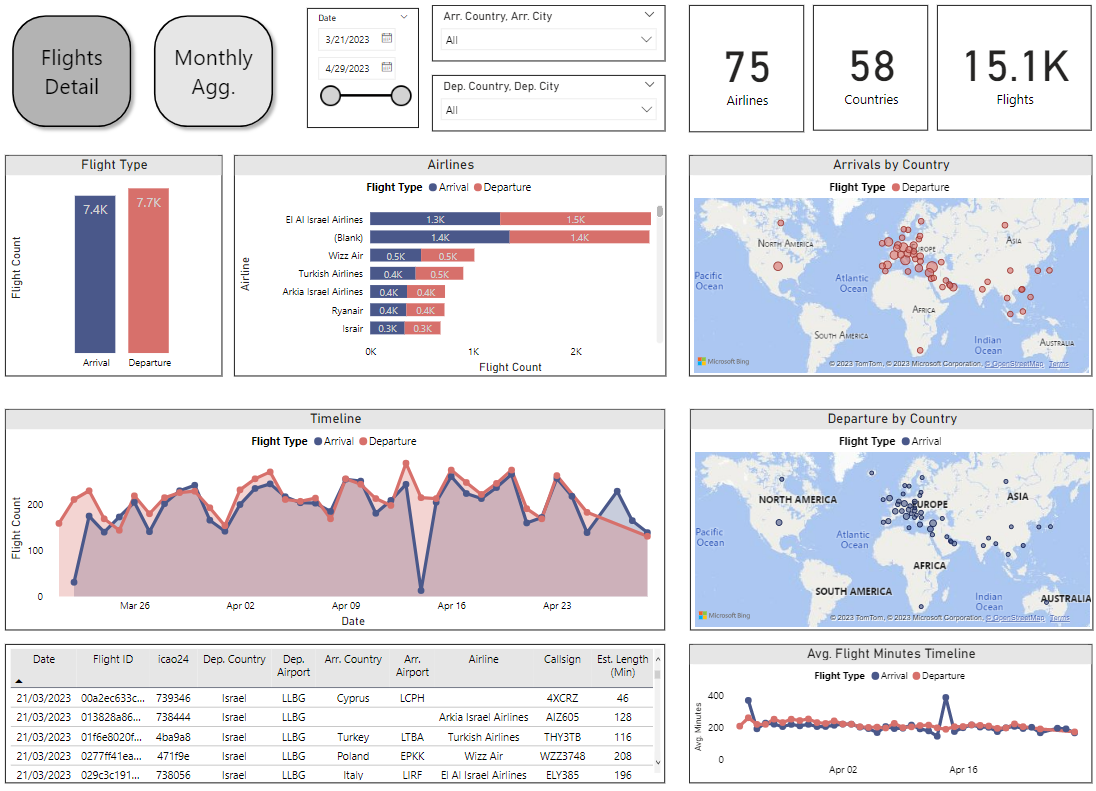

The page's visual inventory and layout, read from the dashboard file:
{"tool":"powerbi","page":{"name":"Flights Detail","canvas":[1400,1000],"ordinal":0},"visuals":[{"type":"barChart","title":"Airlines","fields":{"Category":["fact_flights.airline_name"],"Y":["Measure Table.Flight Count"],"Series":["fact_flights.flight_type"]},"box":[317.5,202,536.5,275],"z":0},{"type":"map","title":"Arrivals by Country","fields":{"Category":["fact_flights.arr_airport_country"],"Series":["fact_flights.flight_type"],"Size":["Measure Table.Flight Count"]},"box":[882.9,202,500.8,275],"z":1000},{"type":"card","fields":{"Values":["Measure Table.Flight Count"]},"box":[1191.9,16.6,191.9,156.2],"z":2000},{"type":"slicer","fields":{"Values":["fact_flights.arr_airport_country","fact_flights.arr_airport_city"]},"box":[563.7,16.6,290,70],"z":3000,"group":"g1"},{"type":"columnChart","title":"Flight Type","fields":{"Category":["fact_flights.flight_type"],"Y":["Measure Table.Flight Count"]},"box":[34,202,269.9,275],"z":3000},{"type":"slicer","fields":{"Values":["fact_flights.dep_airport_country","fact_flights.dep_airport_city"]},"box":[563.7,103.8,290.3,70],"z":4000,"group":"g1"},{"type":"areaChart","title":"Timeline","fields":{"Y":["Measure Table.Flight Count"],"Series":["fact_flights.flight_type"],"Category":["fact_flights.last_seen - date"]},"box":[34,517.8,820,275],"z":4000},{"type":"tableEx","fields":{"Values":["fact_flights.last_seen - date","fact_flights.flight_id","fact_flights.icao24","fact_flights.dep_airport_country","fact_flights.dep_airport","fact_flights.arr_airport_country","fact_flights.arr_airport","fact_flights.airline_name","fact_flights.callsign","Sum(fact_flights.est_flight_length_min)"]},"box":[34,809.8,820,173.2],"z":5000},{"type":"map","title":"Departure by Country","fields":{"Category":["fact_flights.dep_airport_country"],"Series":["fact_flights.flight_type"],"Size":["Measure Table.Flight Count"]},"box":[884.6,517.8,500.8,275],"z":6000},{"type":"card","fields":{"Values":["Measure Table.Airline Count"]},"box":[882.9,15.7,142.6,157.9],"z":7000},{"type":"card","fields":{"Values":["Measure Table.Countries"]},"box":[1037.4,16.6,142.6,156.2],"z":8000},{"type":"slicer","fields":{"Values":["fact_flights.last_seen - date"]},"box":[409.2,19.9,139.2,149.4],"z":9000},{"type":"lineChart","title":"Avg. Flight Minutes Timeline","fields":{"Series":["fact_flights.flight_type"],"Category":["fact_flights.first_seen - date"],"Y":["Measure Table.Avg. Minutes"]},"box":[882.9,809.8,500.8,173.2],"z":10000},{"type":"group","id":"g1","title":"Group 1","box":[563.7,16.6,290.3,156.2],"z":11000},{"type":"pageNavigator","box":[34,20.4,343,157.9],"z":12001}]}

Visuals, with their boxes in screenshot pixels (x1, y1, x2, y2), scaled from the page's 1400x1000 canvas onto the 1096x791 screenshot:
"Airlines" barChart: (left=249, top=160, right=669, bottom=377)
"Arrivals by Country" map: (left=691, top=160, right=1083, bottom=377)
card - Measure Table.Flight Count: (left=933, top=13, right=1083, bottom=137)
slicer - fact_flights.arr_airport_country x fact_flights.arr_airport_city: (left=441, top=13, right=668, bottom=69)
"Flight Type" columnChart: (left=27, top=160, right=238, bottom=377)
slicer - fact_flights.dep_airport_country x fact_flights.dep_airport_city: (left=441, top=82, right=669, bottom=137)
"Timeline" areaChart: (left=27, top=410, right=669, bottom=627)
tableEx - fact_flights.last_seen - date x fact_flights.flight_id: (left=27, top=641, right=669, bottom=778)
"Departure by Country" map: (left=693, top=410, right=1085, bottom=627)
card - Measure Table.Airline Count: (left=691, top=12, right=803, bottom=137)
card - Measure Table.Countries: (left=812, top=13, right=924, bottom=137)
slicer - fact_flights.last_seen - date: (left=320, top=16, right=429, bottom=134)
"Avg. Flight Minutes Timeline" lineChart: (left=691, top=641, right=1083, bottom=778)
"Group 1" group: (left=441, top=13, right=669, bottom=137)
pageNavigator: (left=27, top=16, right=295, bottom=141)
